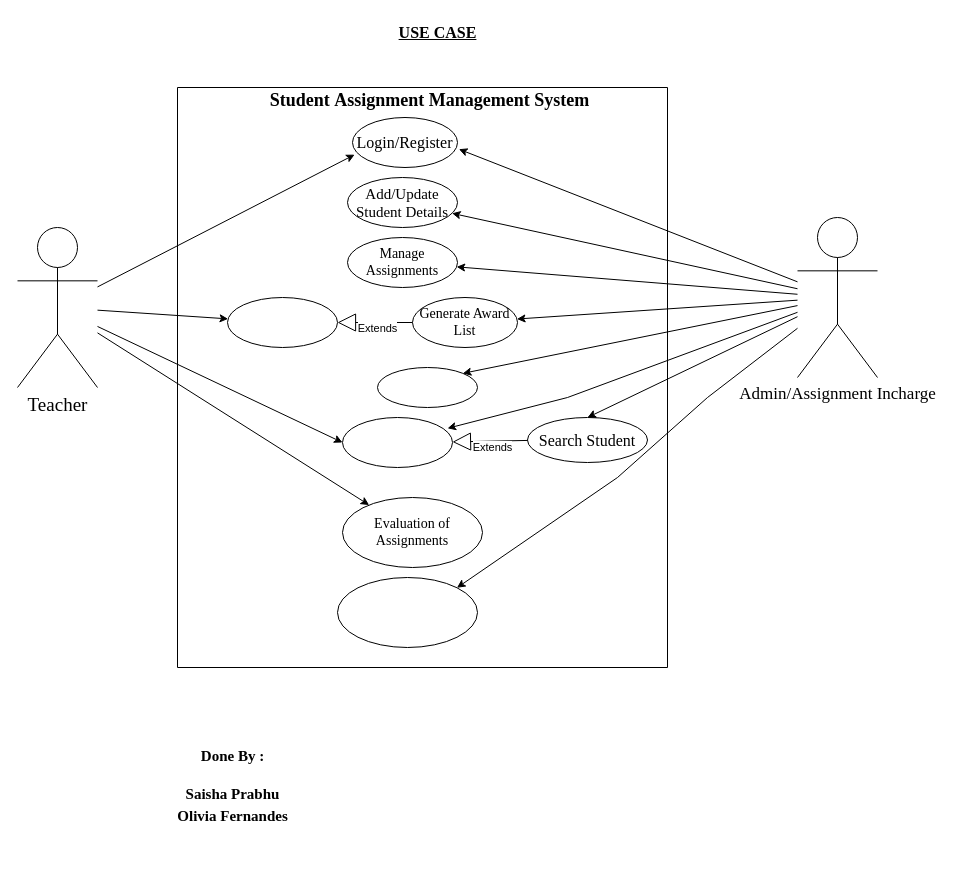
The diagram is 953 pixels wide and 894 high, and some of its shapes have lost their labels. Here are the shapes that lost their labels. From the top down, the centre of each, then its label:
At (282,322): "Display Award List".
At (427,387): "Delete Details".
At (397,442): "View Student Assignments".
At (407,612): "Maintenance of System".
